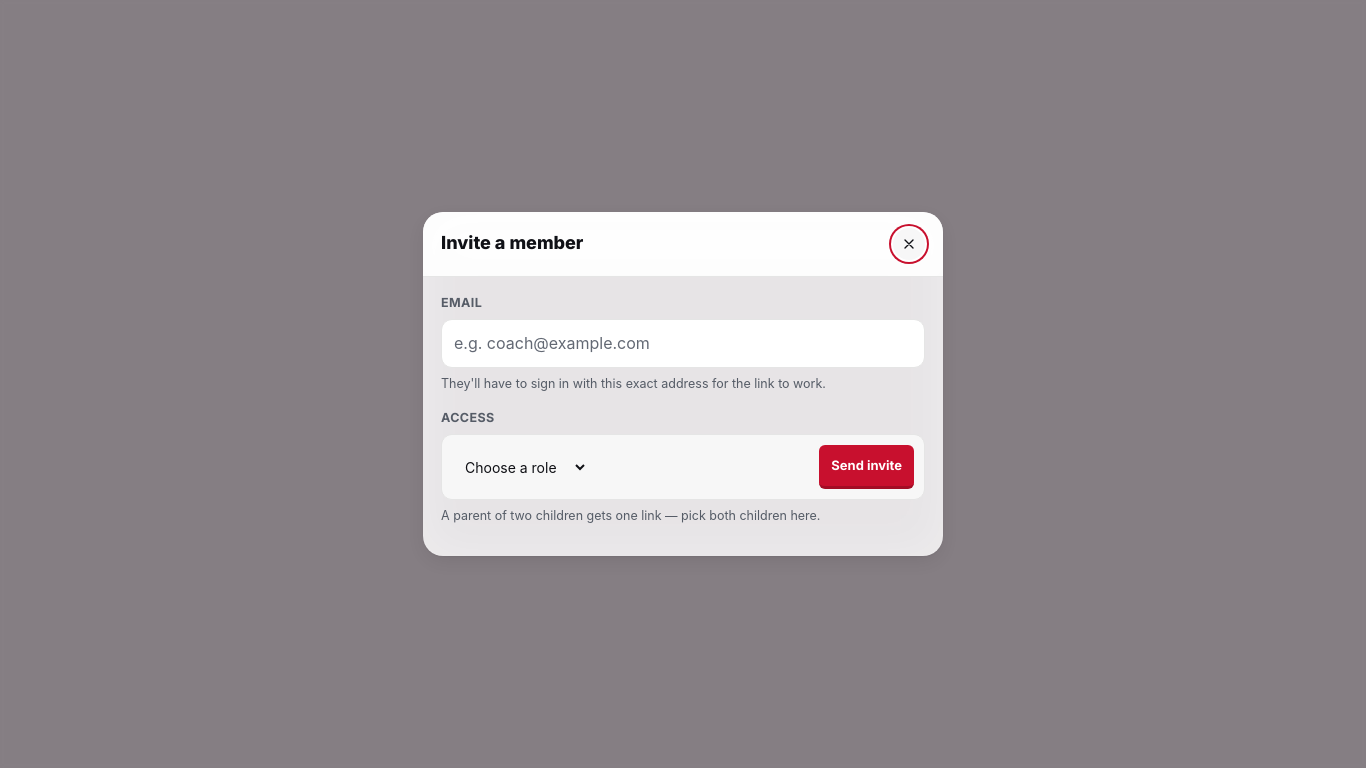
Test: InviteForm — validation › blocks submit and explains why when the email is blank
Select "Coach" in the dropdown named "Role for the new member". click: (520, 467)
box: 452,453 -> 589,482
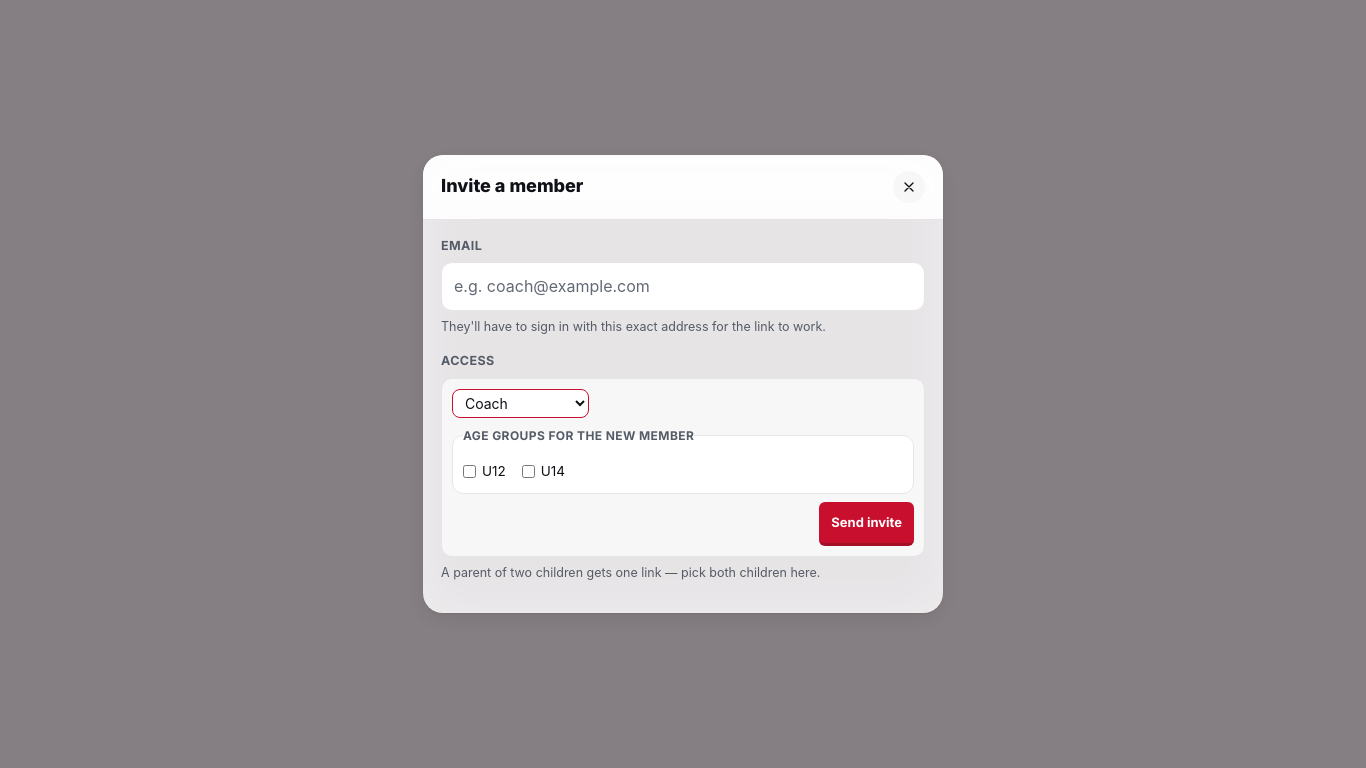
Click the checkbox labelled "U14". click: (528, 472)
box: 522,466 -> 535,478
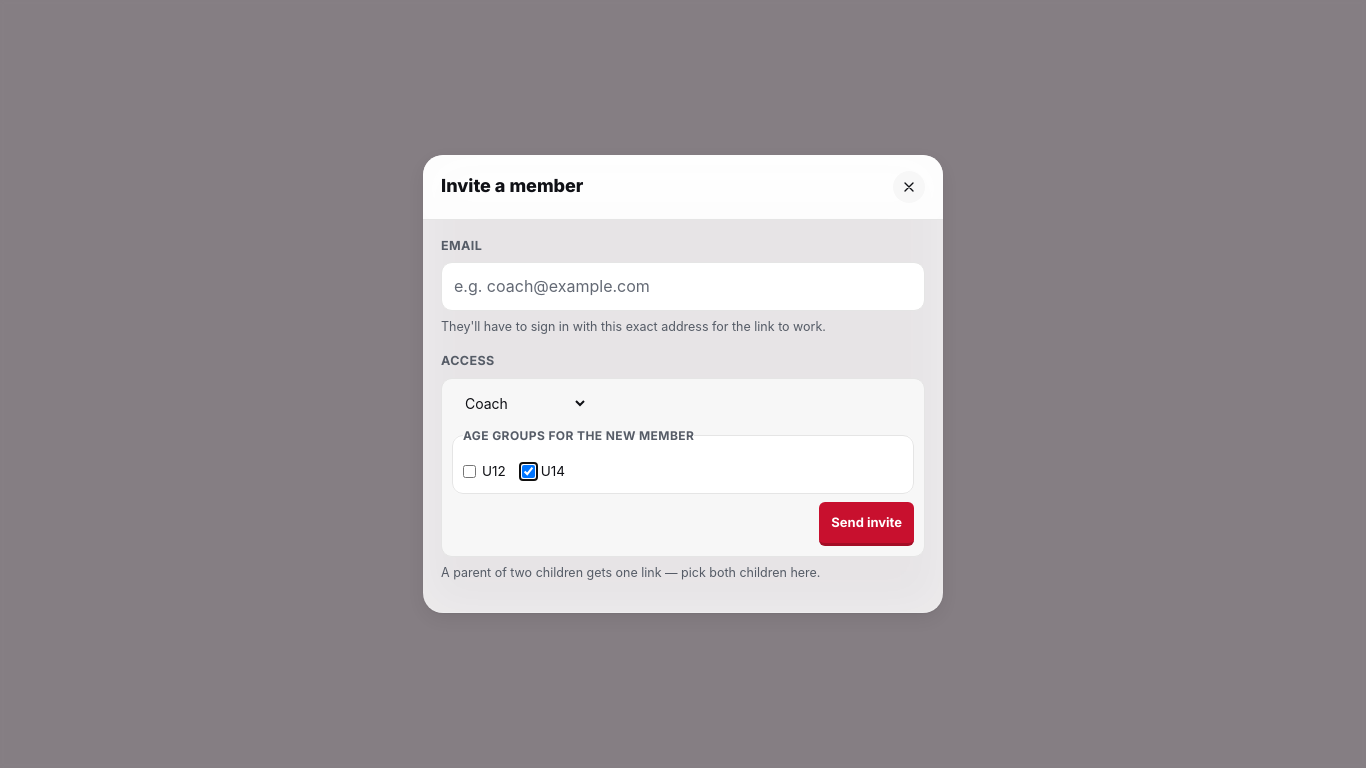
Click the button "Send invite". click: (867, 524)
box: 819,502 -> 914,546
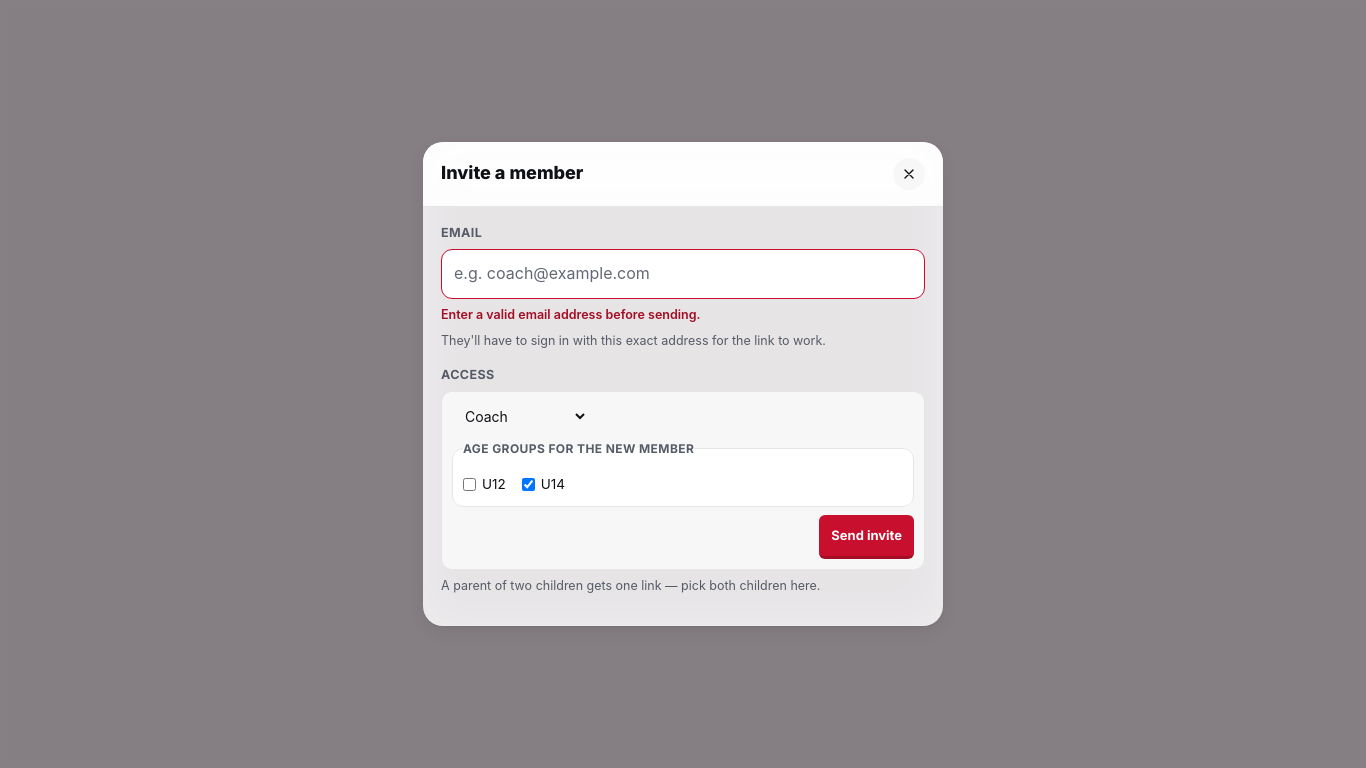
Now the message shows "valid email", box 441,307 -> 700,322
